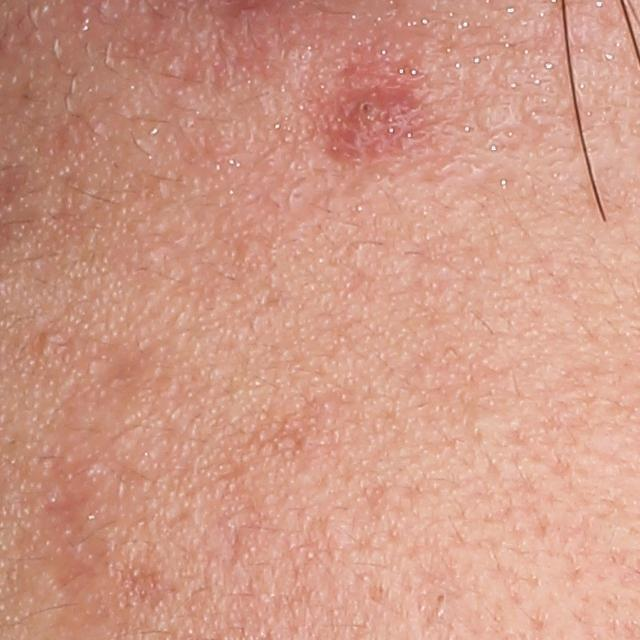comedo: (460, 403, 504, 440), (38, 328, 65, 353), (434, 590, 448, 603)
papule: (309, 86, 424, 168)
